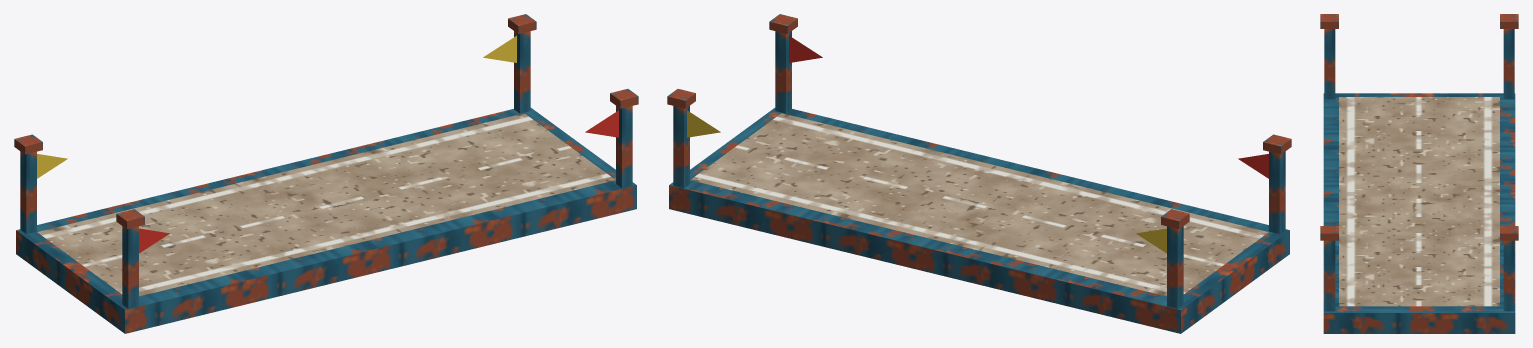
The model's file is track.glb.
3 renders of one model, left to right at view 1: azimuth 30°, elevation 25°; view 2: azimuth 150°, elevation 25°; view 3: azimuth 270°, elevation 25°, orthographic. The views are drawn at different scales.
Visible parts, largest first — view 1: Belt, Base; view 2: Belt, Base; view 3: Belt, Base.
Part boxes in pixels (x1=…): Belt: x1=37, y1=113, x2=615, y2=296; Base: x1=14, y1=14, x2=638, y2=333; Belt: x1=690, y1=113, x2=1268, y2=296; Base: x1=667, y1=14, x2=1291, y2=333; Belt: x1=1339, y1=97, x2=1499, y2=306; Base: x1=1320, y1=14, x2=1518, y2=333.
Bounding box in the file's own units: 1.68 × 0.3575 × 0.64.
4 materials, 2 textured.
